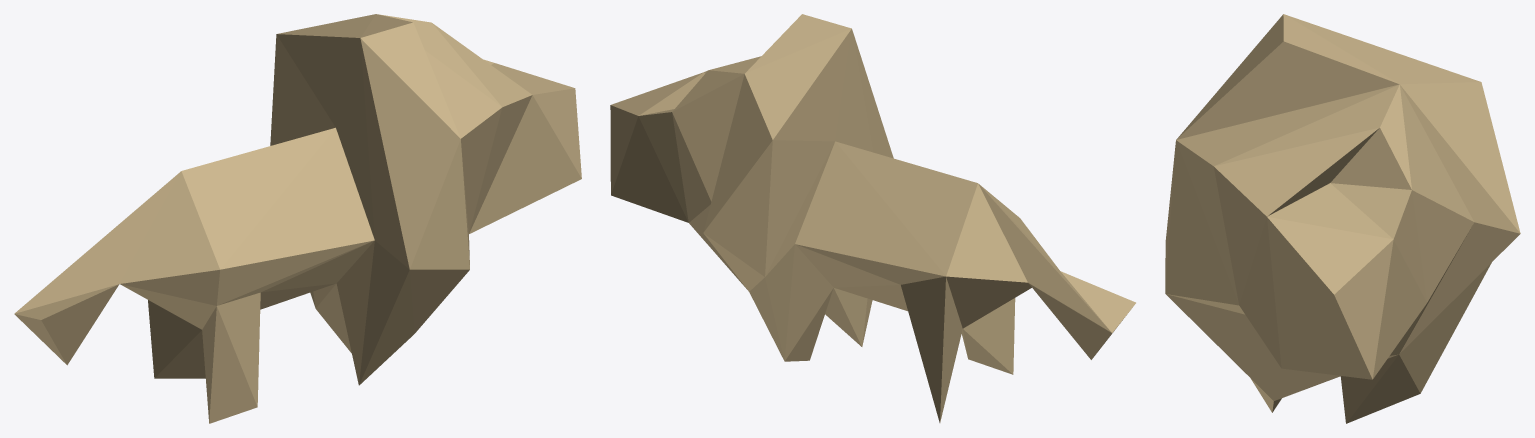
The picture shows the model from 3 angles, left to right: view 1: azimuth 30°, elevation 25°; view 2: azimuth 150°, elevation 25°; view 3: azimuth 270°, elevation 25°; orthographic projection. The views are drawn at different scales.
Visible parts, largest first — view 1: part0; view 2: part0; view 3: part0.
Boxes of the visible parts, x1,y1,x2,y2 form: part0: (14,14,581,423); part0: (610,14,1135,422); part0: (1165,14,1520,423).
Bounding box in the file's own units: 4.1 × 2.48 × 1.96.
